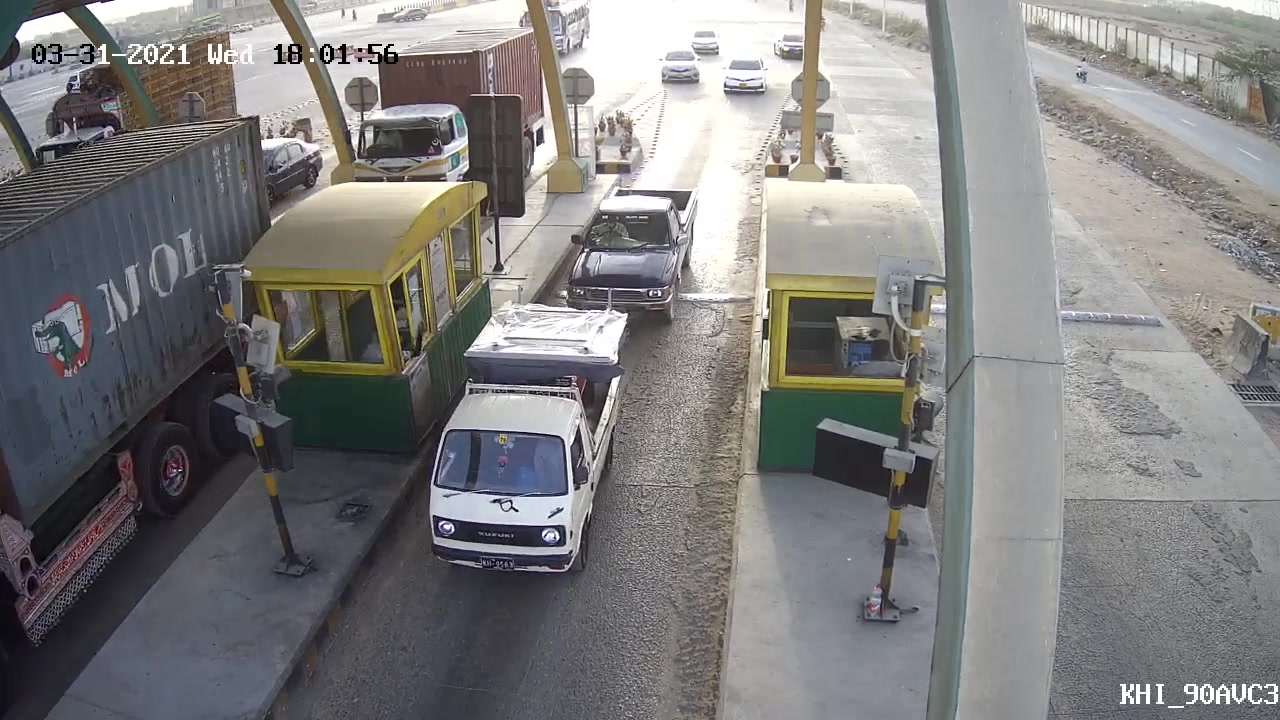F1: (397, 295, 637, 585)
